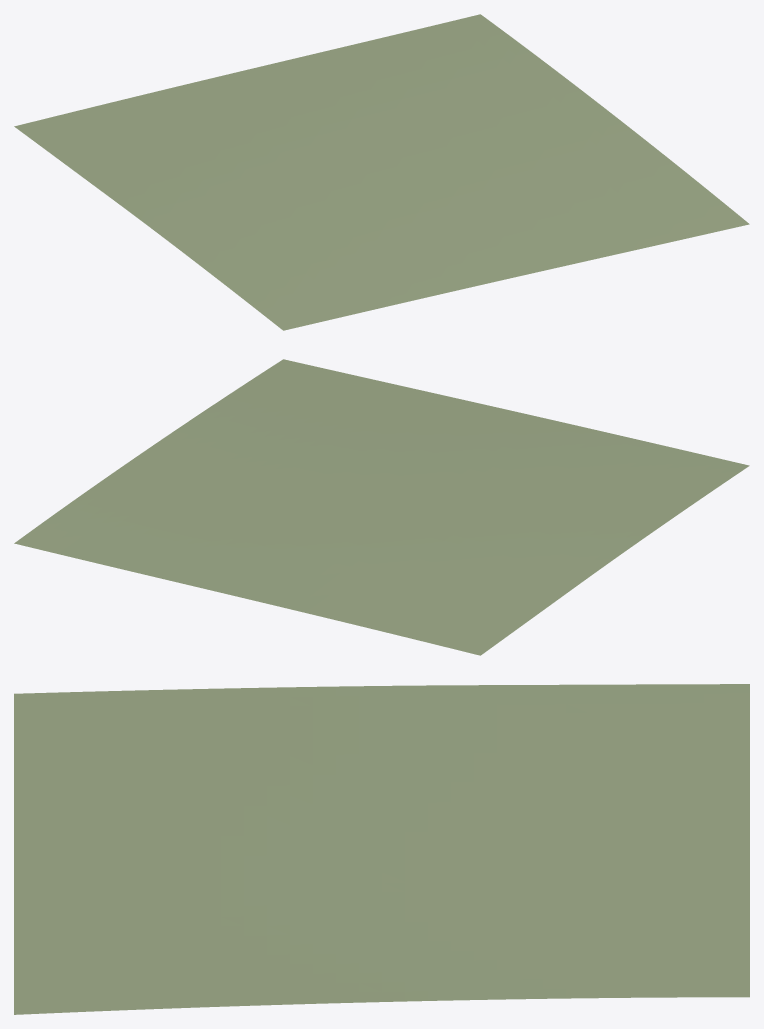
The model's file is desert-4-17.glb.
3 views of the same model, one above another, from view 1: azimuth 30°, elevation 25°; view 2: azimuth 150°, elevation 25°; view 3: azimuth 270°, elevation 25° (orthographic). The views are drawn at different scales.
Visible parts, largest first — view 1: desert-4-17; view 2: desert-4-17; view 3: desert-4-17.
Boxes of the visible parts, x1,y1,x2,y2 form: desert-4-17: (14,14,749,330); desert-4-17: (14,359,749,655); desert-4-17: (14,684,749,1014).
Size of the model in its own units: 512 by 15.44 by 512.
